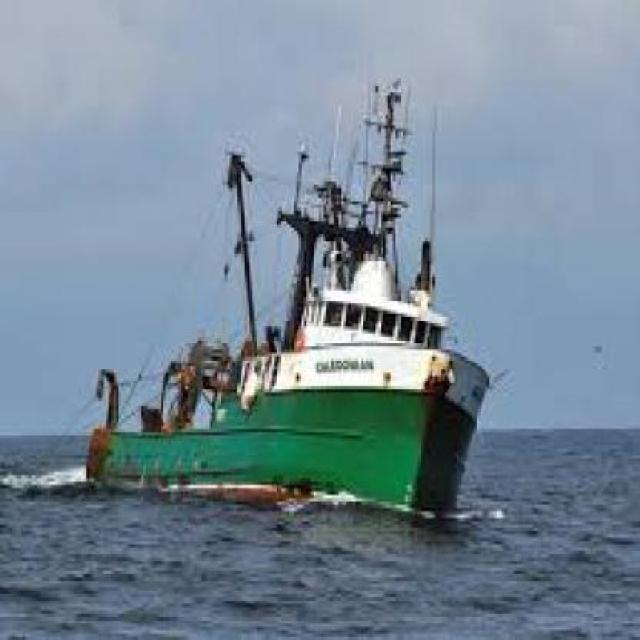fish-b: (72, 60, 505, 542)
